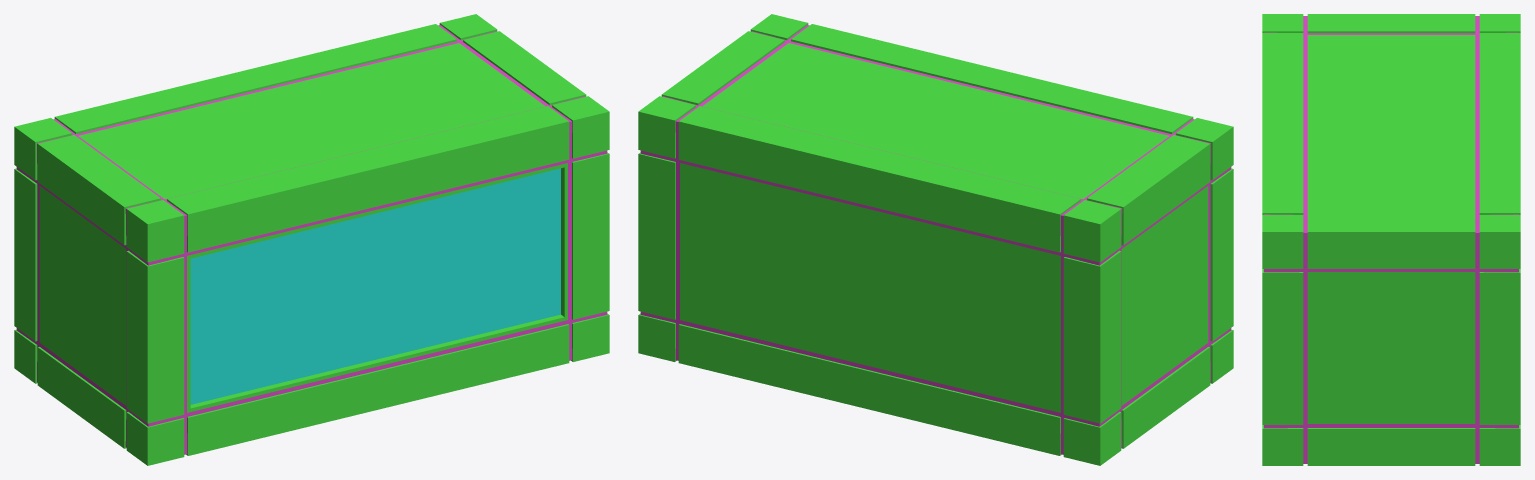
The model's file is Vent_13_B.fbx.
3 views of the same model, side by side, from view 1: azimuth 30°, elevation 25°; view 2: azimuth 150°, elevation 25°; view 3: azimuth 270°, elevation 25° (orthographic). The views are drawn at different scales.
Parts seen in each view (by area): view 1: Vent_13_B; view 2: Vent_13_B; view 3: Vent_13_B.
Part boxes in pixels (x1,y1,x2,y2): Vent_13_B: (14,14,609,465); Vent_13_B: (638,14,1233,465); Vent_13_B: (1262,14,1520,465).
Bounding box in the file's own units: 183 × 91.44 × 91.44.
